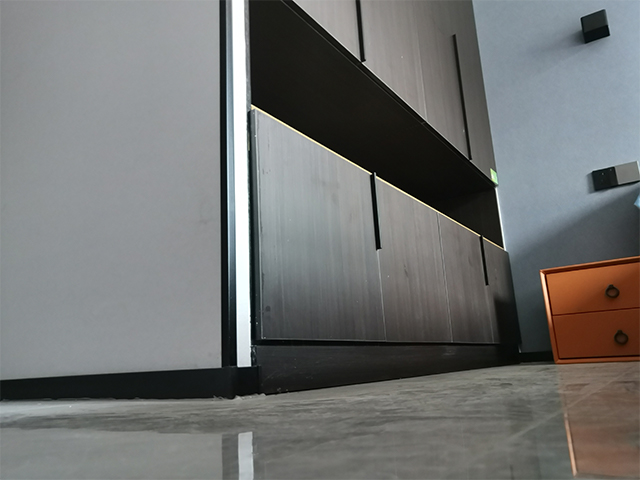cabinet: (247, 108, 526, 391), (536, 253, 640, 367)
